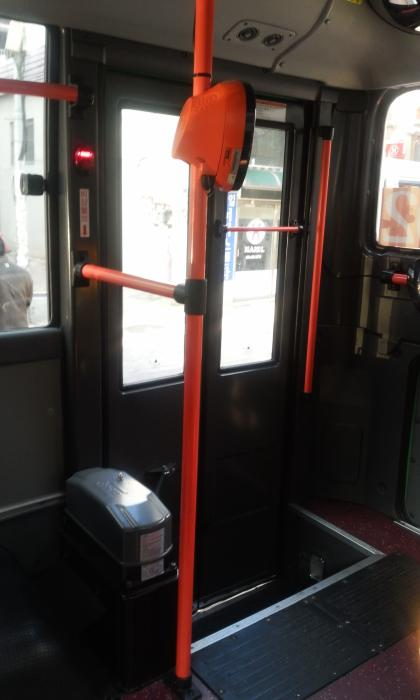exit: (82, 61, 343, 599)
